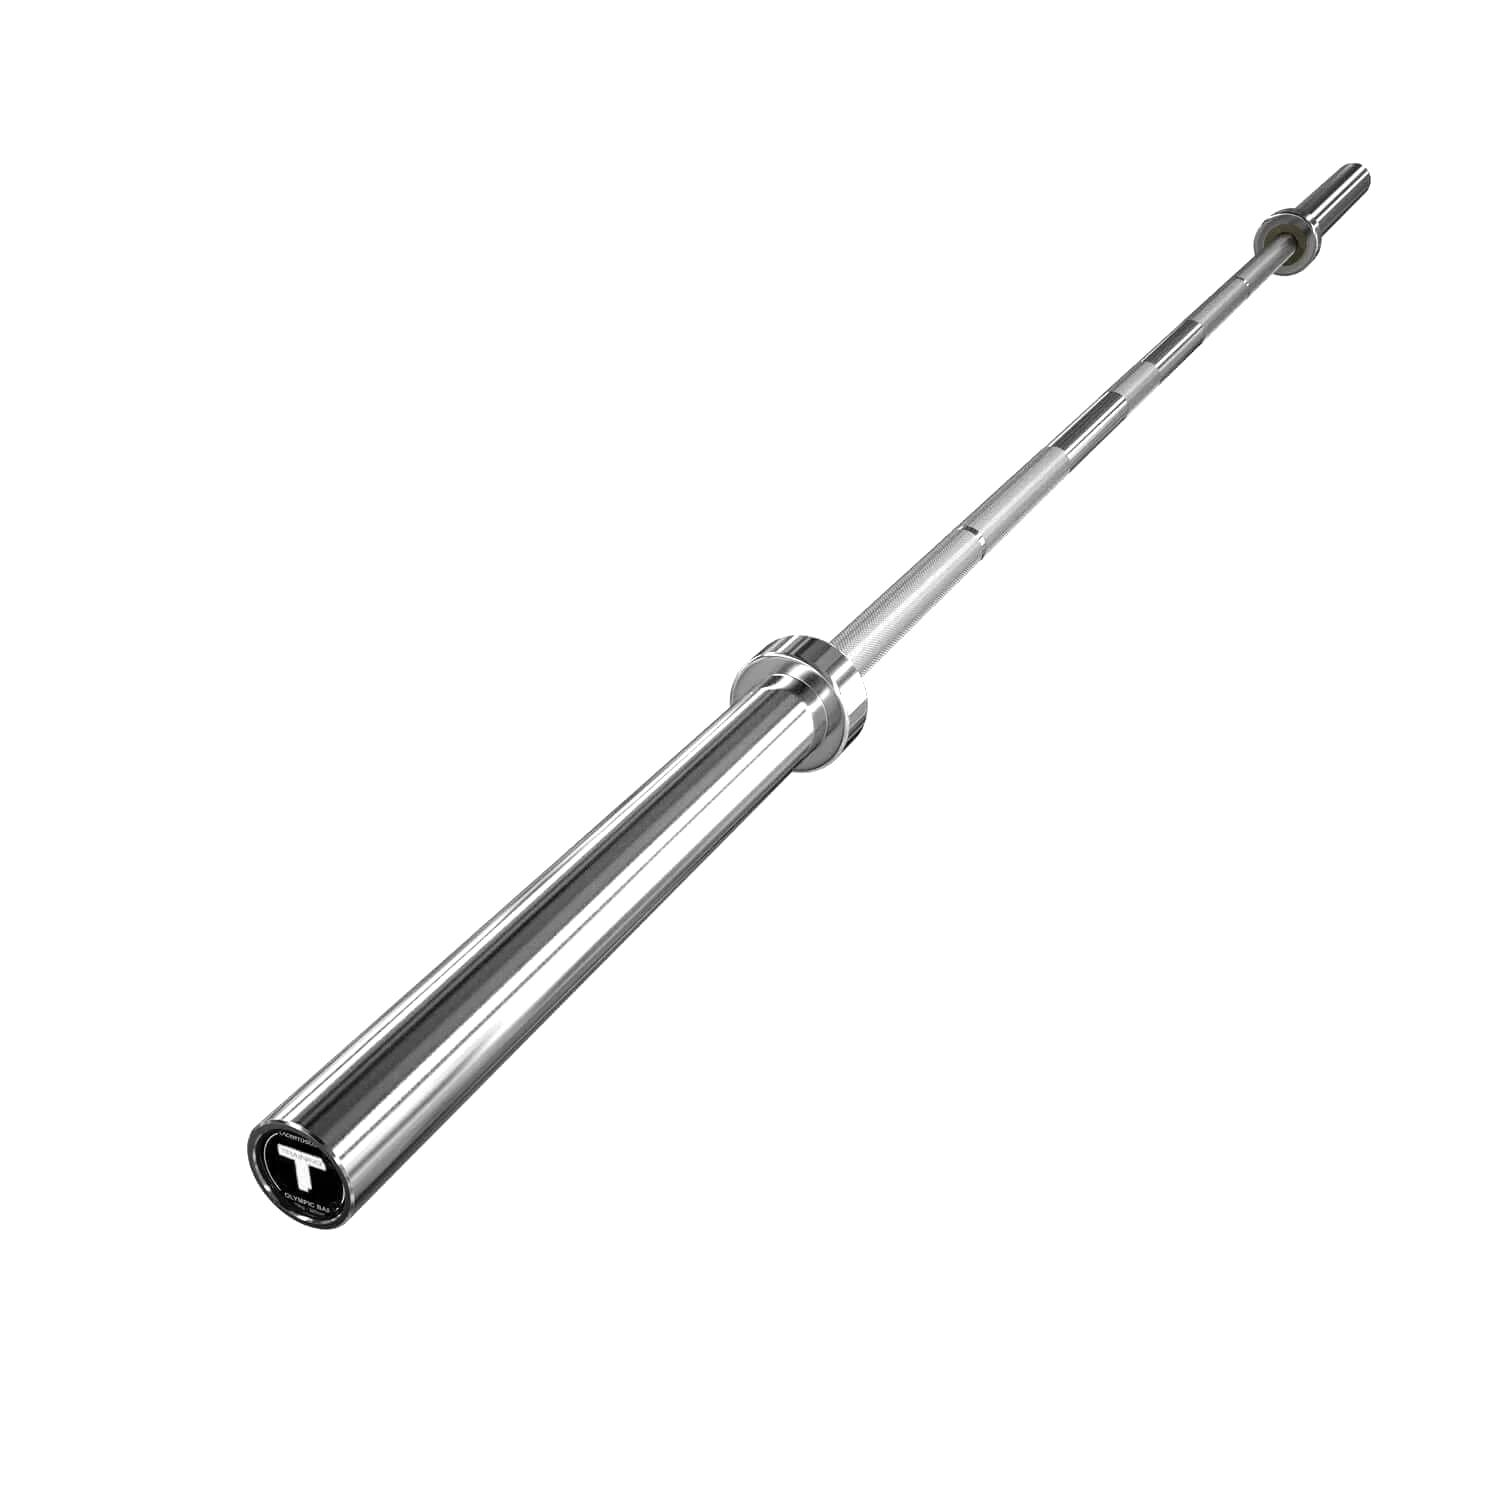Barbell: (198, 1065, 442, 1260)
